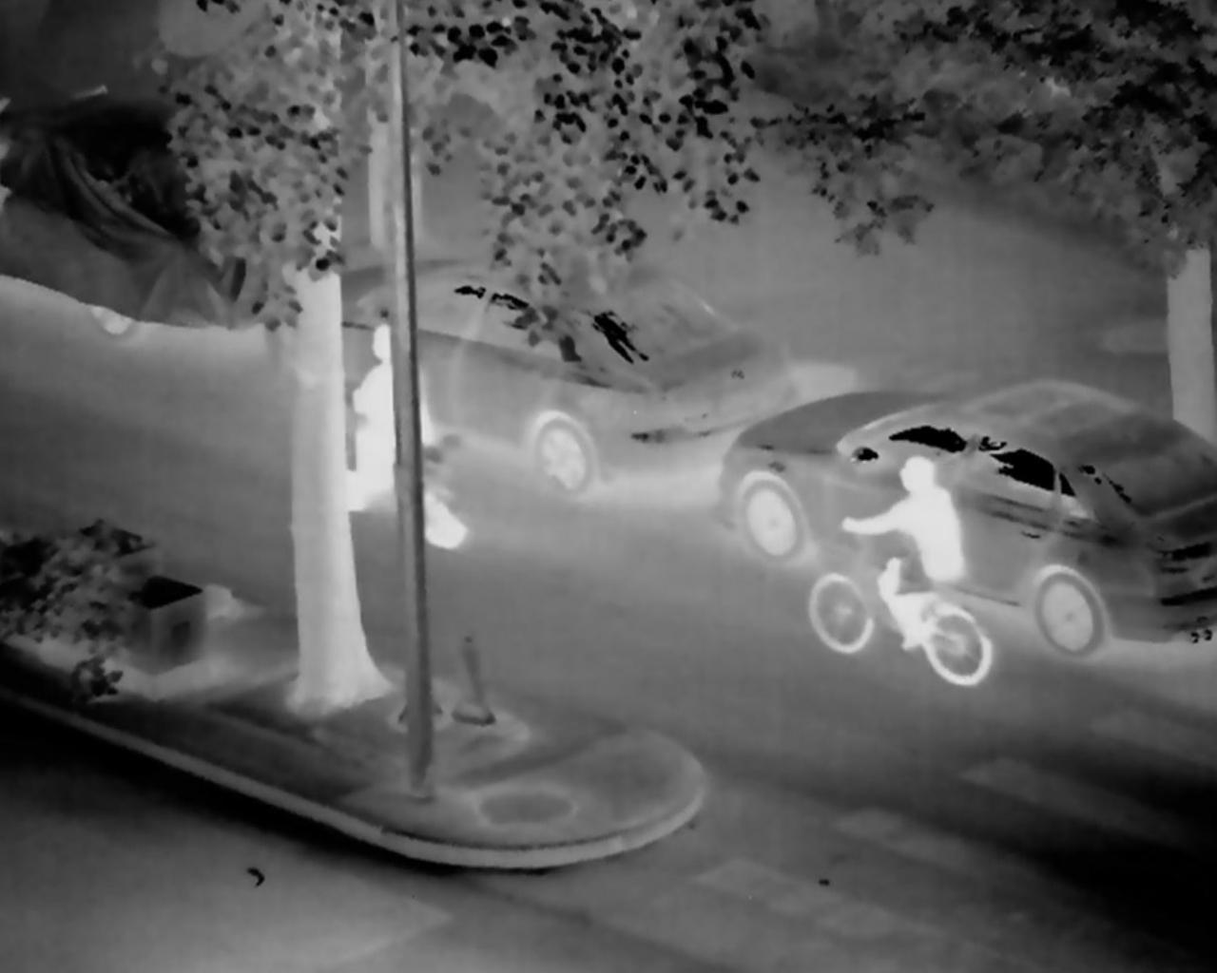person: (835, 445, 990, 689), (331, 321, 465, 550)
